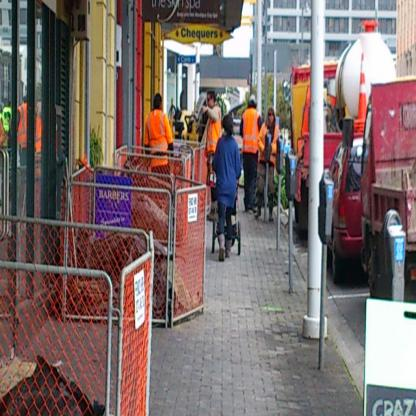face: (208, 96, 213, 108), (270, 111, 275, 122)
